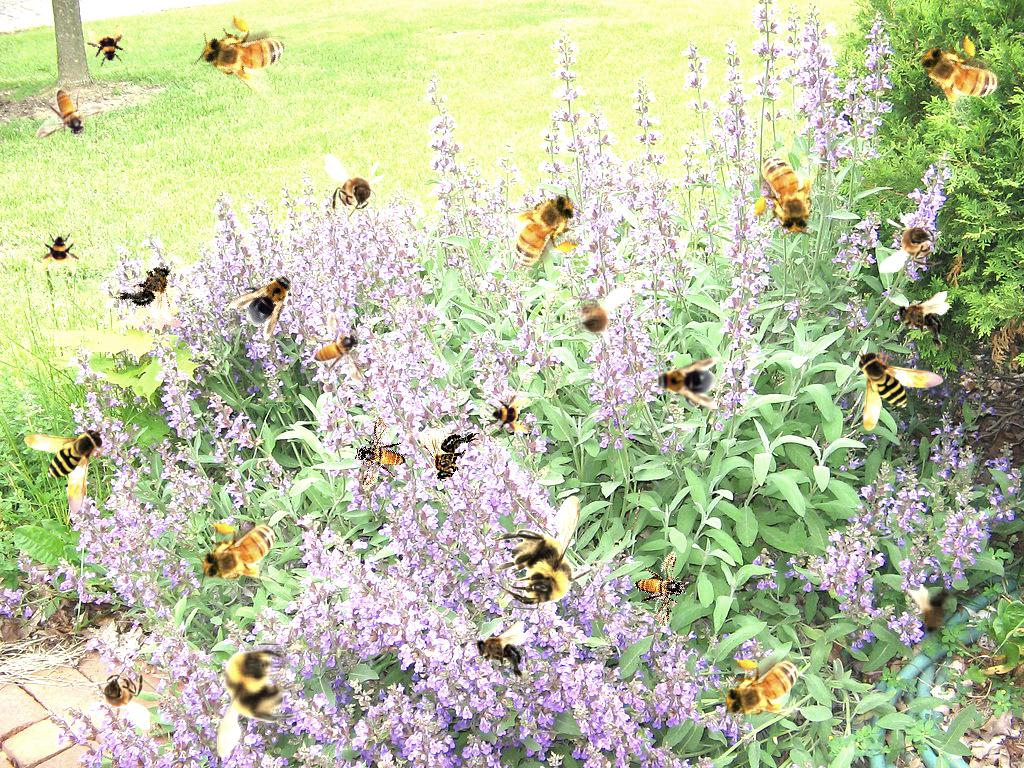Bee: (904, 17, 1016, 134), (197, 643, 304, 758), (492, 495, 599, 610), (187, 2, 303, 107), (485, 181, 597, 280), (746, 141, 828, 244), (226, 256, 310, 342), (24, 427, 106, 515), (856, 349, 944, 431), (338, 414, 420, 501), (622, 542, 702, 629), (718, 655, 811, 723), (195, 519, 288, 587), (111, 251, 190, 325), (89, 660, 150, 730), (879, 212, 949, 273), (325, 154, 386, 224), (562, 288, 632, 349), (892, 286, 951, 354), (313, 311, 363, 382), (36, 89, 107, 139), (652, 357, 720, 409), (906, 584, 968, 637), (418, 429, 480, 482), (474, 621, 527, 683), (79, 18, 133, 72), (39, 231, 83, 275), (487, 391, 531, 435)
